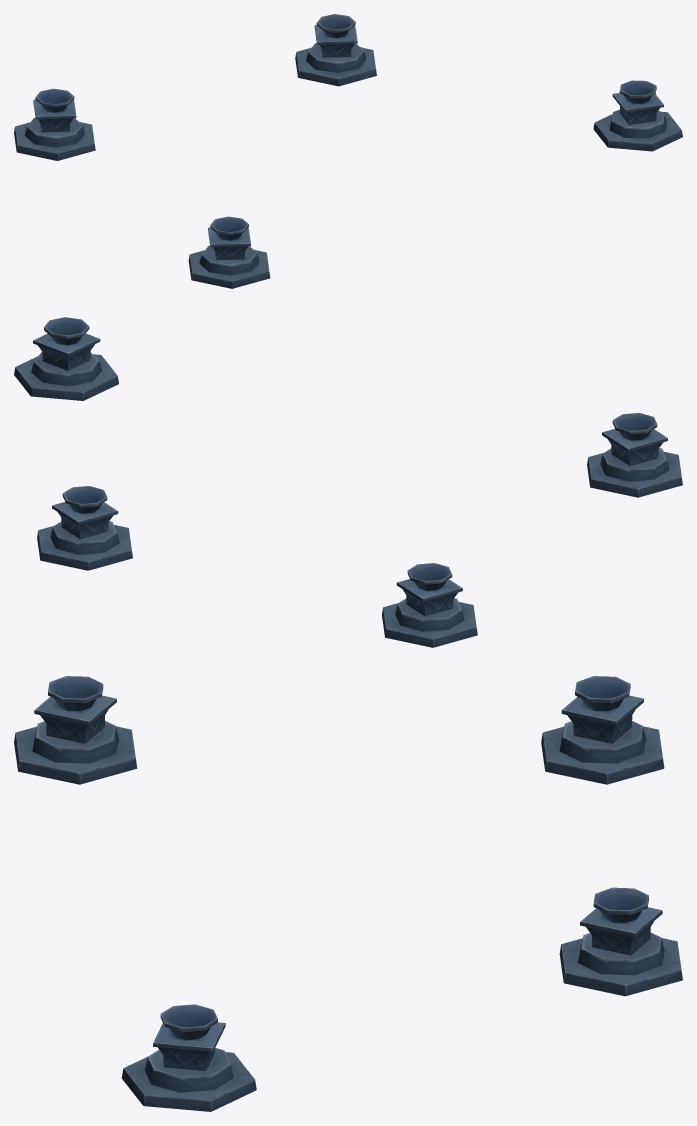
The model's file is wujian17.fbx.
3 renders of one model, top to bottom at view 1: azimuth 30°, elevation 25°; view 2: azimuth 150°, elevation 25°; view 3: azimuth 270°, elevation 25°, orthographic. The views are drawn at different scales.
Visible parts, largest first — view 1: wujian17; view 2: wujian17; view 3: wujian17.
Boxes of the visible parts, left/top/right/bottom form: wujian17: left=14, top=14, right=682, bottom=288; wujian17: left=14, top=317, right=682, bottom=647; wujian17: left=14, top=676, right=682, bottom=1111.
Size of the model in its own units: 1718 by 141 by 1260.
1 material, 1 textured.
